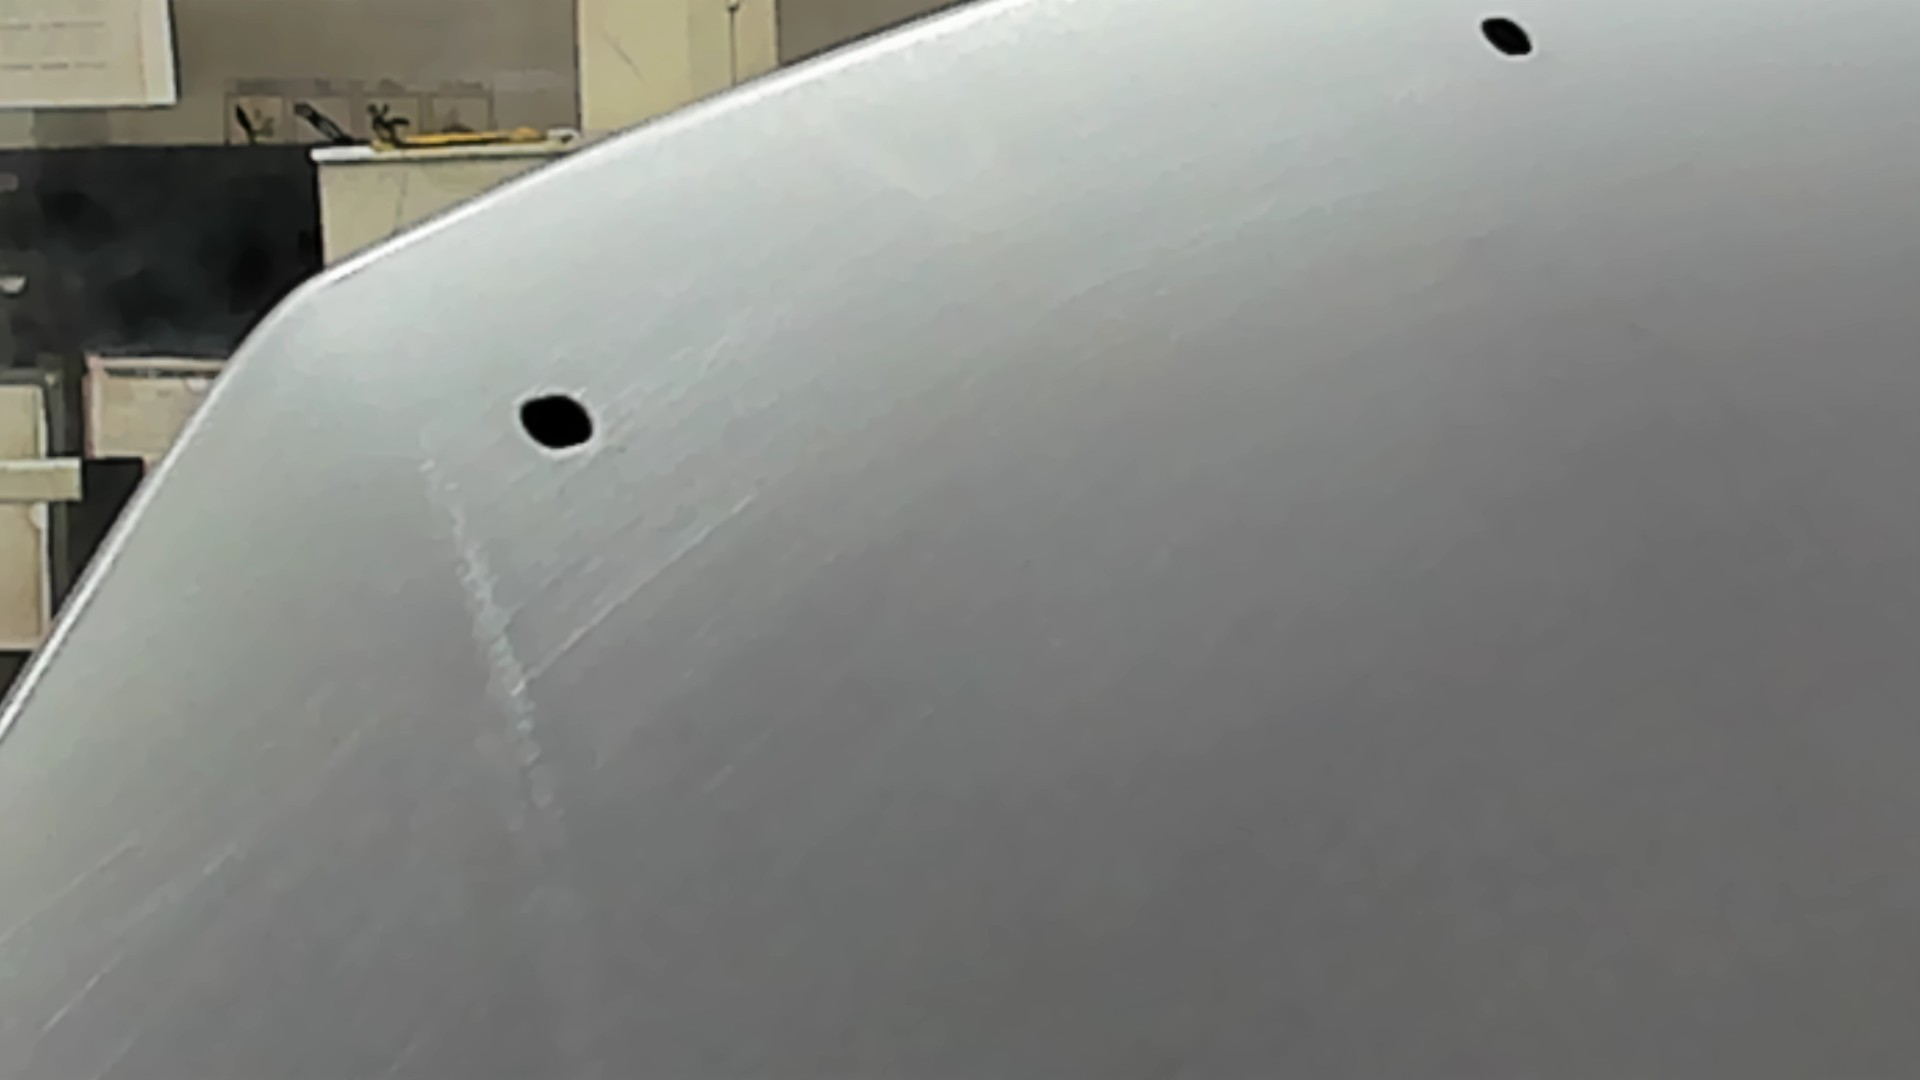Agujero: (516, 392, 593, 451), (1477, 15, 1534, 57)
